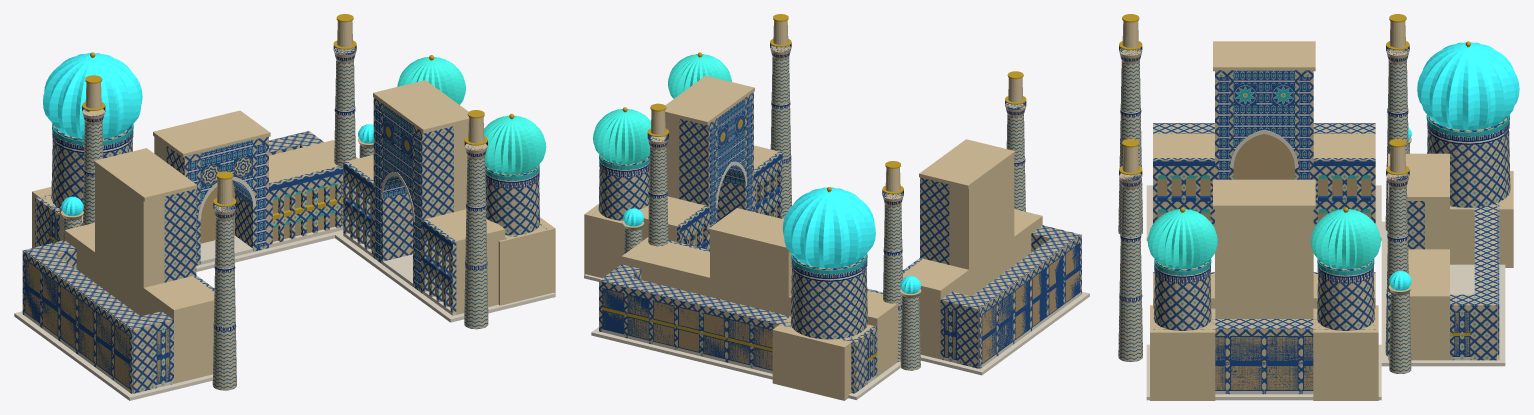
The model's file is registan.glb.
The picture shows the model from 3 angles, left to right: view 1: azimuth 30°, elevation 25°; view 2: azimuth 150°, elevation 25°; view 3: azimuth 270°, elevation 25°; orthographic projection. The views are drawn at different scales.
Parts seen in each view (by area): view 1: UlughBeg_Buff, SherDor_BuffTile, SherDor_Buff, UlughBeg_BuffTile, TilyaKori_BuffTile, TilyaKori_GlazeTK, TilyaKori_Buff, SherDor_Chevron, UlughBeg_Chevron, SherDor_GlazeSD, UlughBeg_BuffShadow, UlughBeg_Cobalt (+14 smaller); view 2: TilyaKori_Buff, UlughBeg_Buff, TilyaKori_BuffTile, SherDor_BuffTile, UlughBeg_BuffTile, SherDor_Buff, TilyaKori_GlazeTK, TilyaKori_BuffShadow, TilyaKori_Cobalt, SherDor_GlazeSD, SherDor_Chevron, UlughBeg_Cobalt (+11 smaller); view 3: SherDor_Buff, TilyaKori_BuffTile, TilyaKori_Buff, SherDor_BuffTile, UlughBeg_BuffTile, UlughBeg_Buff, TilyaKori_GlazeTK, SherDor_GlazeSD, UlughBeg_GirihFrame, SherDor_Chevron, UlughBeg_BuffShadow, UlughBeg_Chevron (+17 smaller).
Part boxes in pixels (<box>): UlughBeg_Buff: <box>64,82,235,383</box>; SherDor_BuffTile: <box>343,97,546,312</box>; SherDor_Buff: <box>334,21,555,314</box>; UlughBeg_BuffTile: <box>22,189,214,393</box>; TilyaKori_BuffTile: <box>35,124,343,265</box>; TilyaKori_GlazeTK: <box>43,53,373,215</box>; TilyaKori_Buff: <box>32,110,373,247</box>; SherDor_Chevron: <box>334,49,488,329</box>; UlughBeg_Chevron: <box>82,114,236,390</box>; SherDor_GlazeSD: <box>397,57,546,174</box>; UlughBeg_BuffShadow: <box>25,260,169,387</box>; UlughBeg_Cobalt: <box>23,259,171,388</box>; TilyaKori_Buff: <box>621,208,921,400</box>; UlughBeg_Buff: <box>883,77,1042,359</box>; TilyaKori_BuffTile: <box>599,240,882,393</box>; SherDor_BuffTile: <box>592,92,782,249</box>; UlughBeg_BuffTile: <box>902,177,1081,368</box>; SherDor_Buff: <box>584,20,791,278</box>; TilyaKori_GlazeTK: <box>623,187,920,293</box>; TilyaKori_BuffShadow: <box>603,289,874,378</box>; TilyaKori_Cobalt: <box>602,288,875,380</box>; SherDor_GlazeSD: <box>593,54,731,164</box>; SherDor_Chevron: <box>648,46,791,246</box>; UlughBeg_Cobalt: <box>940,243,1081,364</box>; SherDor_Buff: <box>1119,146,1409,400</box>; TilyaKori_BuffTile: <box>1388,116,1510,360</box>; TilyaKori_Buff: <box>1388,138,1513,360</box>; SherDor_BuffTile: <box>1153,259,1375,394</box>; UlughBeg_BuffTile: <box>1153,70,1375,228</box>; UlughBeg_Buff: <box>1119,21,1409,157</box>; TilyaKori_GlazeTK: <box>1389,42,1519,290</box>; SherDor_GlazeSD: <box>1147,209,1380,269</box>; UlughBeg_GirihFrame: <box>1219,70,1309,179</box>; SherDor_Chevron: <box>1118,174,1408,361</box>; UlughBeg_BuffShadow: <box>1157,134,1371,221</box>; UlughBeg_Chevron: <box>1118,49,1408,234</box>.
Bounding box in the file's own units: 40.83 × 19.12 × 32.44.
Materials: 16 (7 with a texture image).
